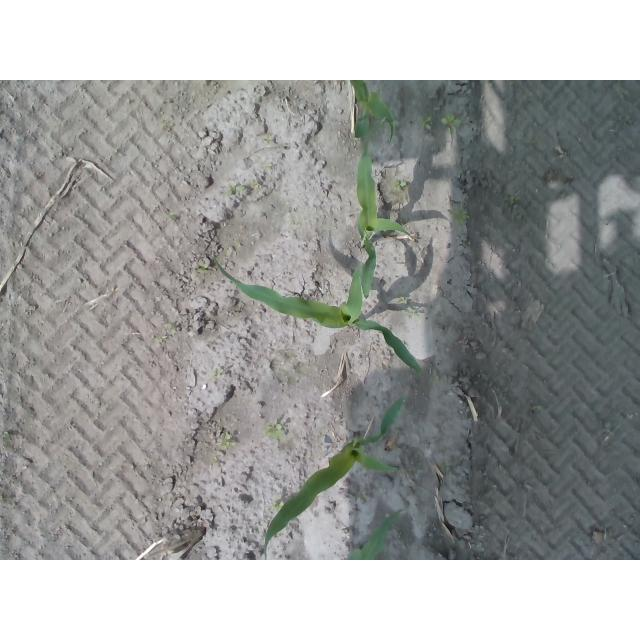Maize: (214, 259, 423, 373), (263, 395, 406, 553), (357, 141, 424, 300), (349, 80, 396, 141), (349, 508, 404, 560)
Weeds: (223, 183, 268, 195), (441, 113, 463, 128), (219, 432, 236, 450), (265, 422, 284, 438), (452, 209, 469, 225), (419, 116, 434, 131), (271, 499, 285, 512), (394, 178, 407, 192), (198, 261, 208, 272), (265, 136, 276, 145)
